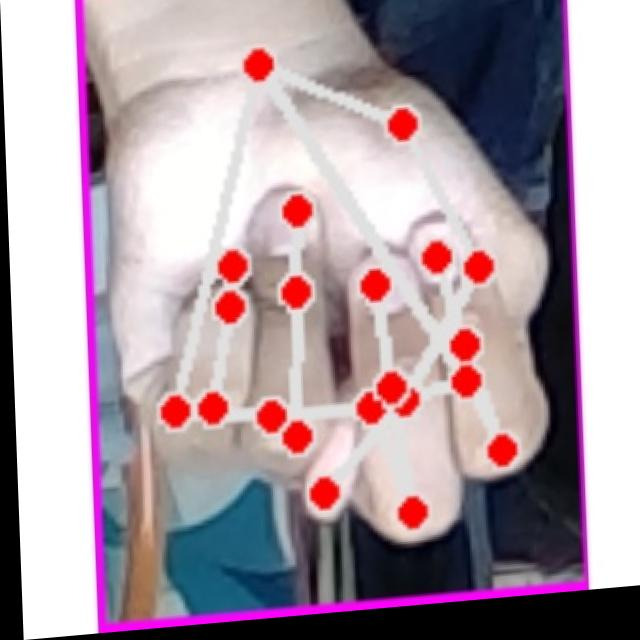N: (103, 7, 562, 585)
